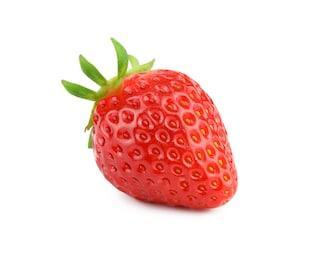Fresa: (85, 64, 246, 215)
